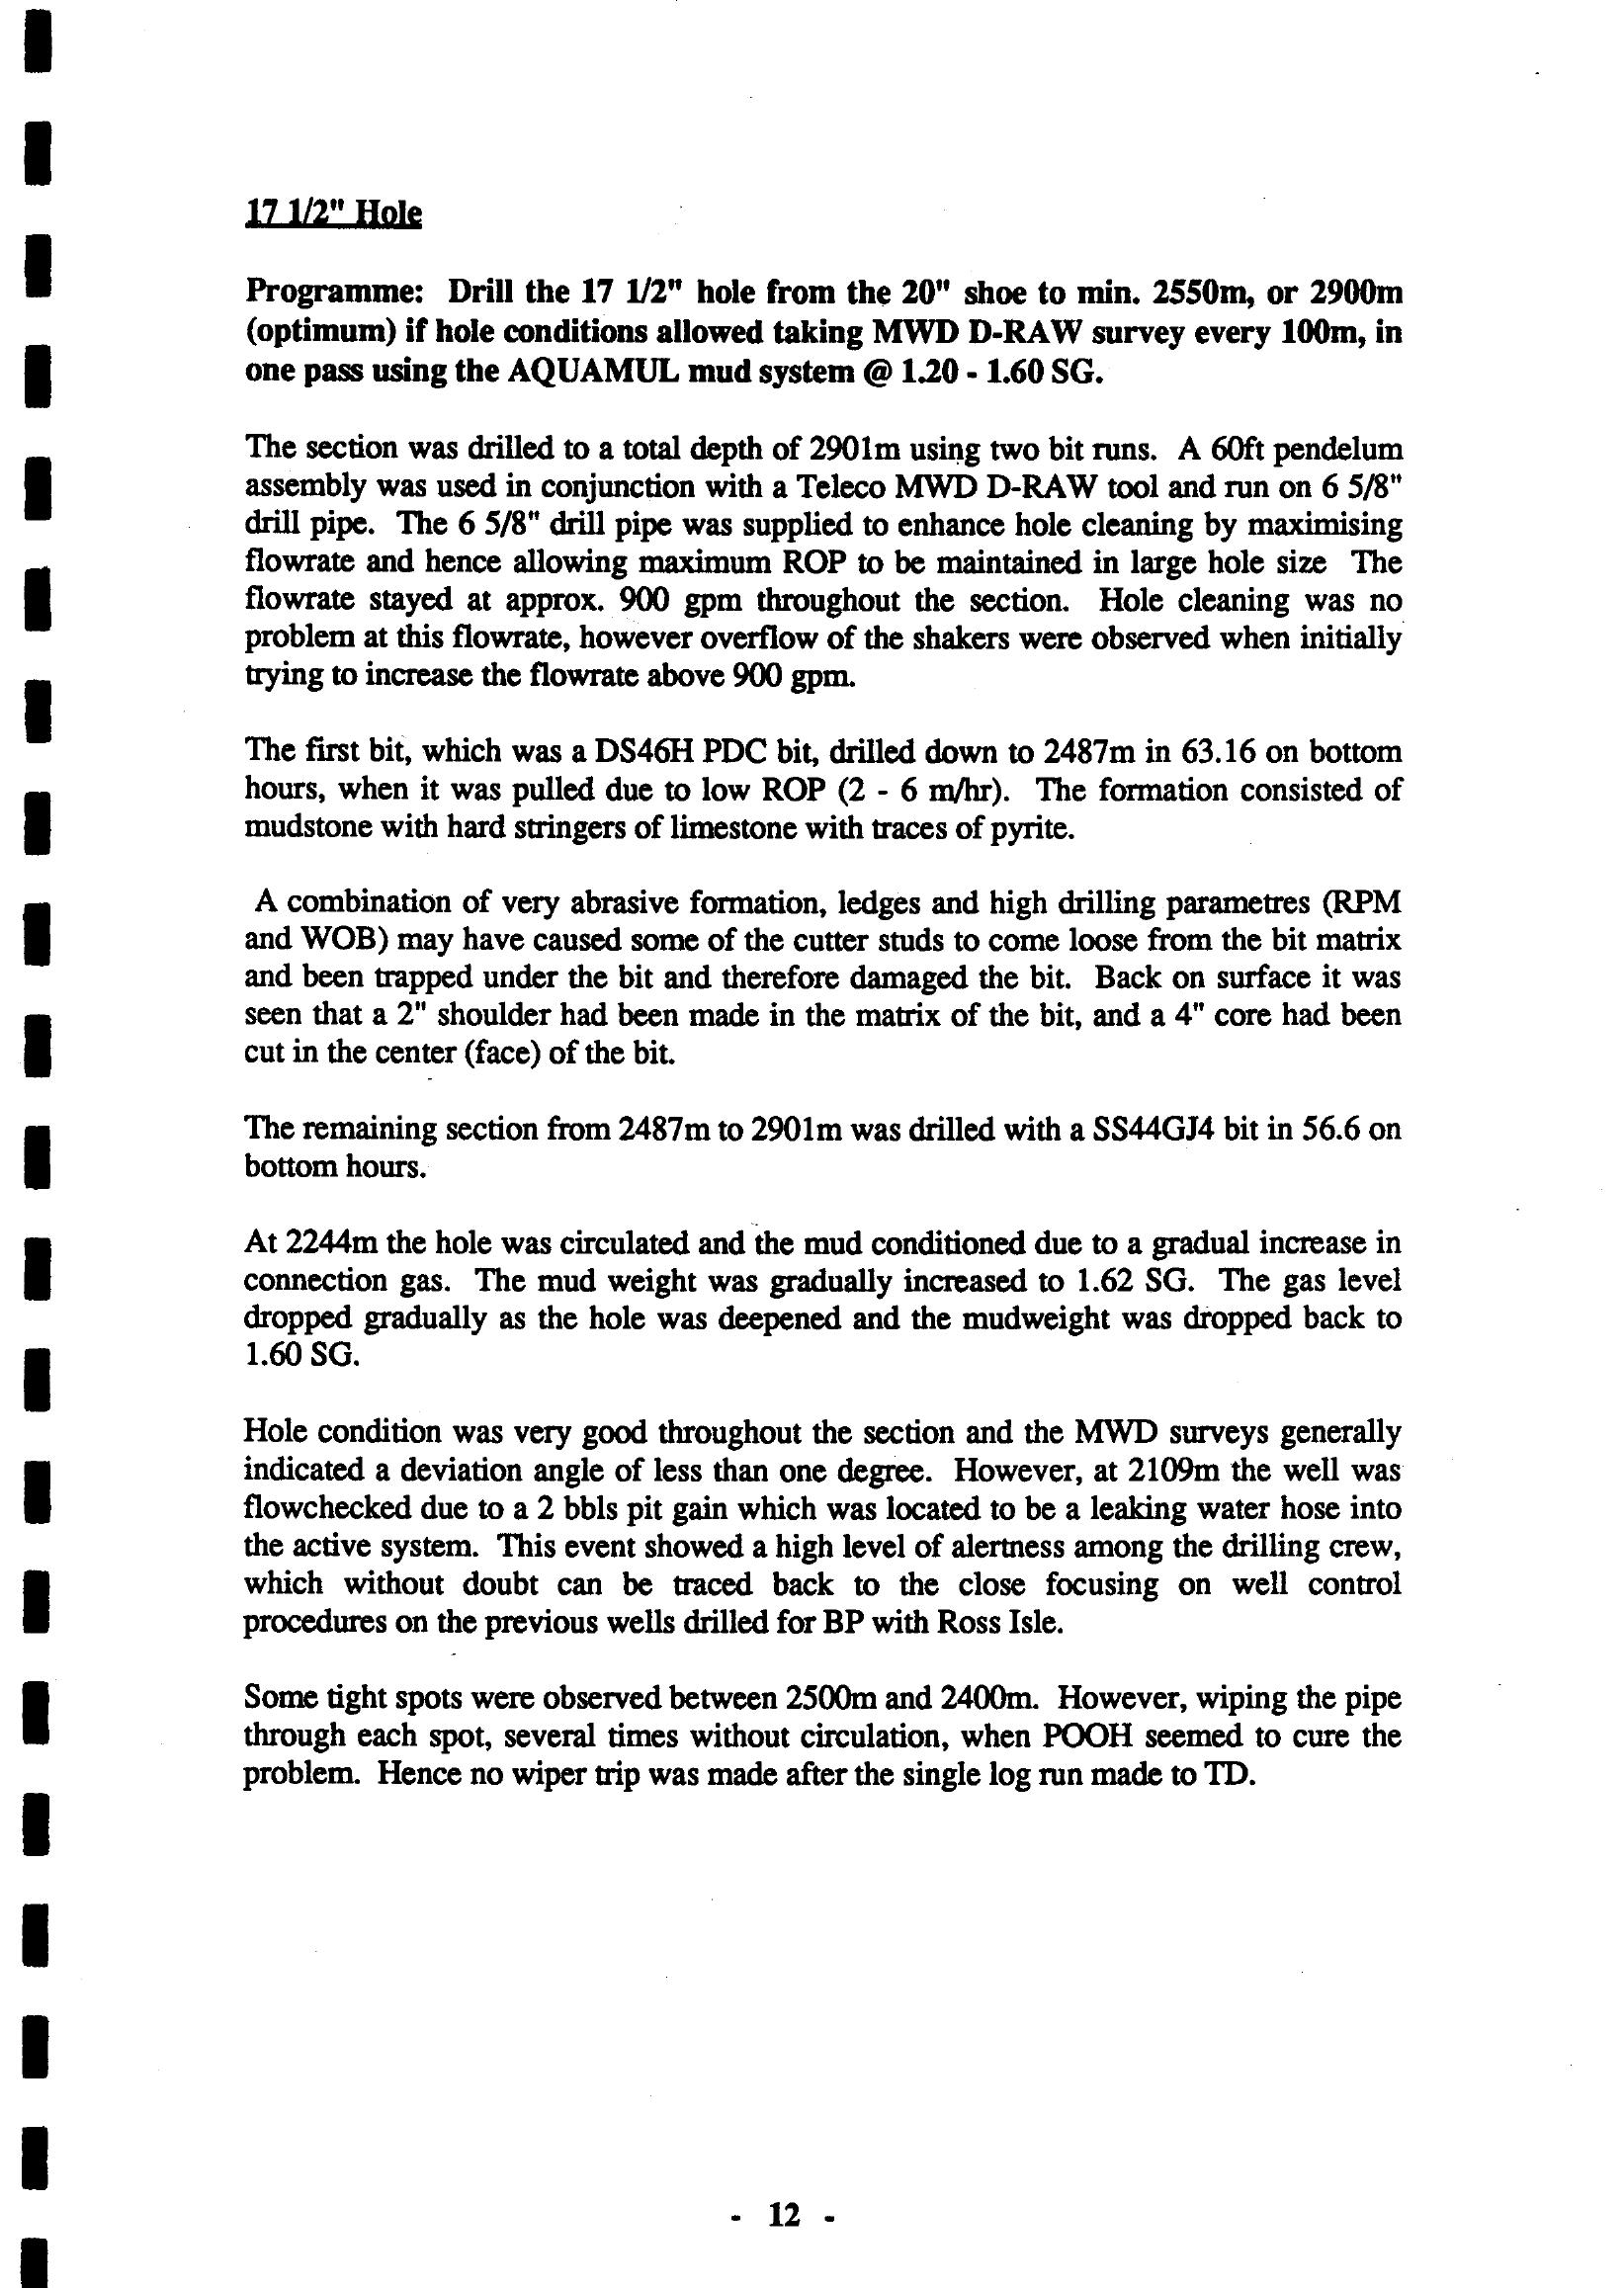text: (216, 179, 1476, 1849)
